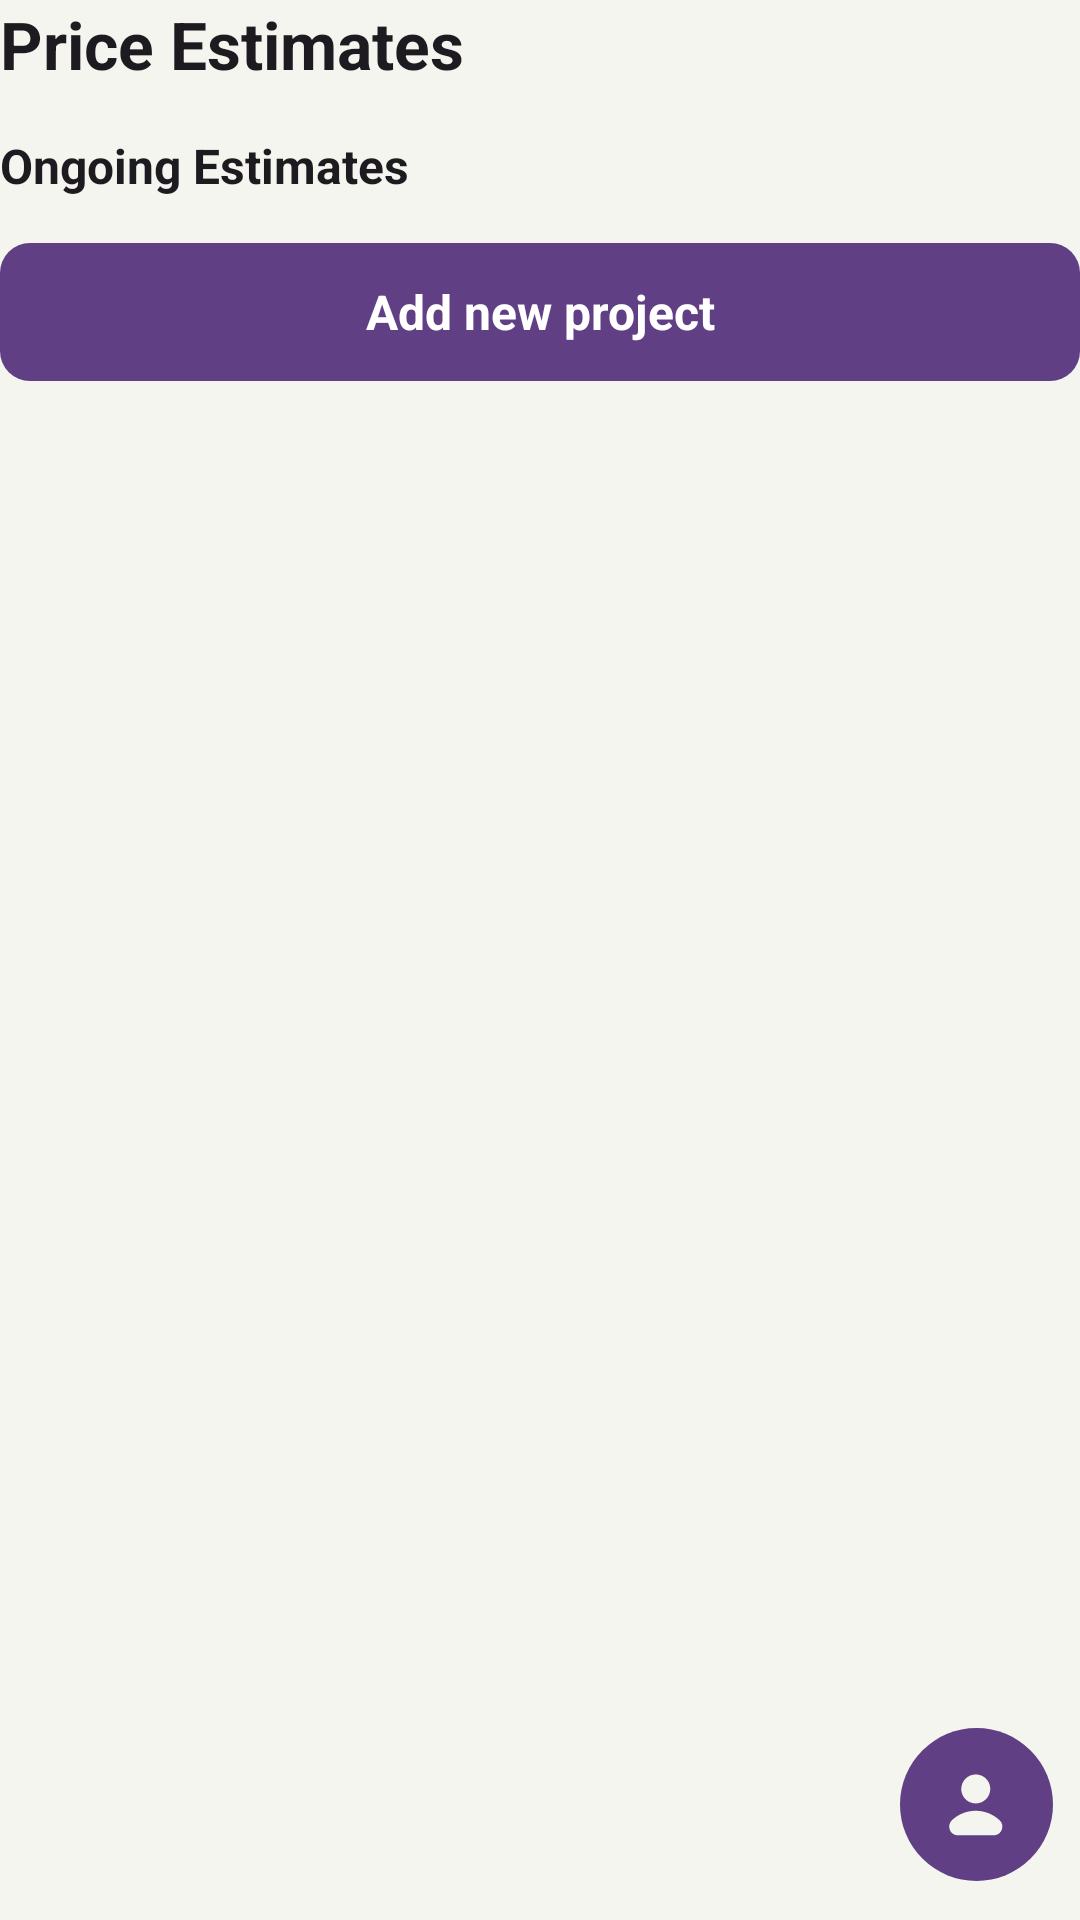

Where icons sit on this 1080x1920 app screen, as (x1, y1, x2, y2):
contact: (900, 1728, 1053, 1881)
